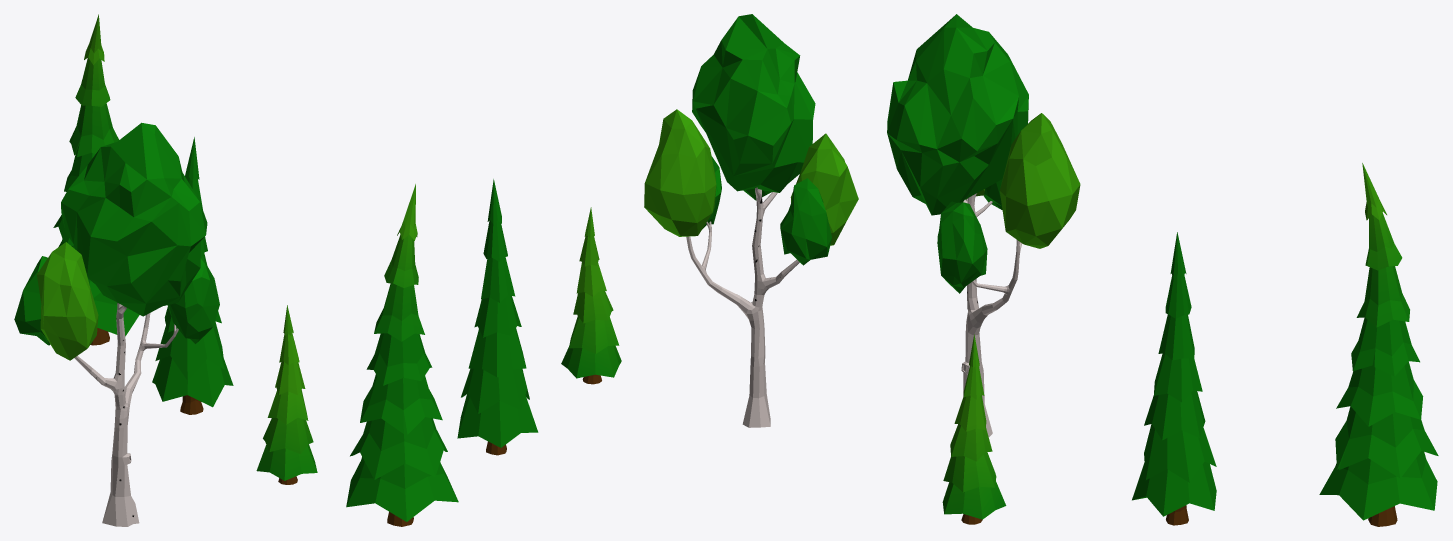
Rendered from trees.glb.
3 renders of one model, left to right at view 1: azimuth 30°, elevation 25°; view 2: azimuth 150°, elevation 25°; view 3: azimuth 270°, elevation 25°, orthographic. The views are drawn at different scales.
Visible parts, largest first — view 1: Birch_1, Fir_2, Fir_3, Fir_1; view 2: Birch_1, Fir_3, Fir_2, Fir_1; view 3: Birch_1, Fir_3, Fir_2, Fir_1.
Part boxes in pixels (x1=…): Birch_1: x1=14, y1=122, x2=219, y2=526; Fir_2: x1=152, y1=137, x2=233, y2=414; Fir_3: x1=53, y1=14, x2=139, y2=345; Fir_1: x1=256, y1=305, x2=317, y2=484; Birch_1: x1=644, y1=14, x2=858, y2=427; Fir_3: x1=346, y1=184, x2=458, y2=526; Fir_2: x1=457, y1=179, x2=538, y2=455; Fir_1: x1=561, y1=207, x2=621, y2=384; Birch_1: x1=887, y1=14, x2=1080, y2=437; Fir_3: x1=1319, y1=163, x2=1438, y2=526; Fir_2: x1=1132, y1=232, x2=1216, y2=525; Fir_1: x1=942, y1=334, x2=1006, y2=524.
Bounding box in the file's own units: 10.96 × 13.74 × 16.11.
4 materials, 4 textured.
